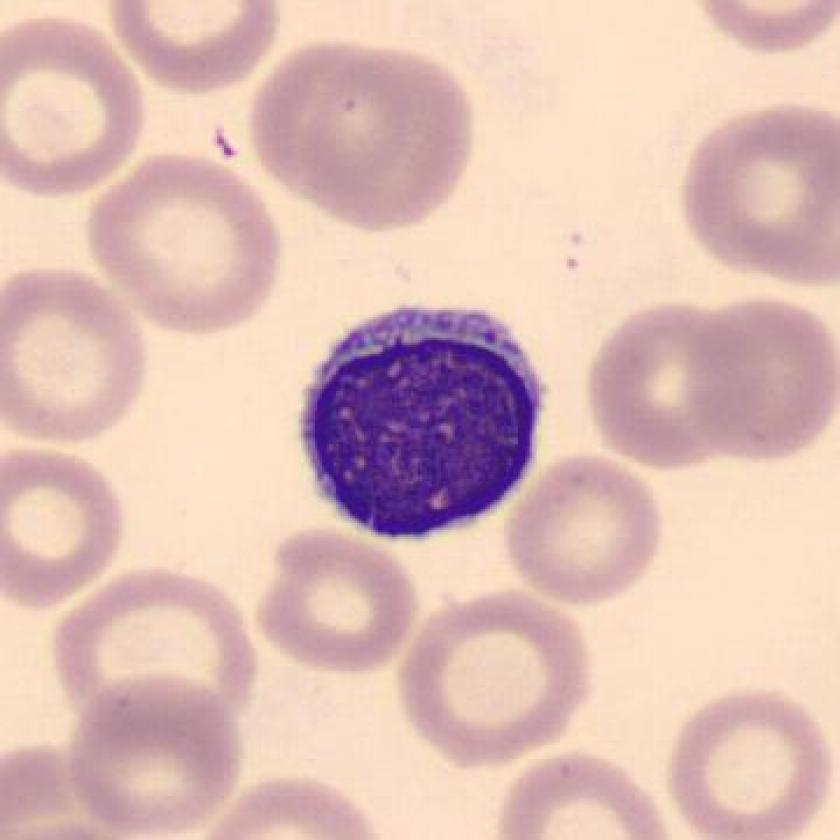lymphocyte: (290, 288, 568, 554)
